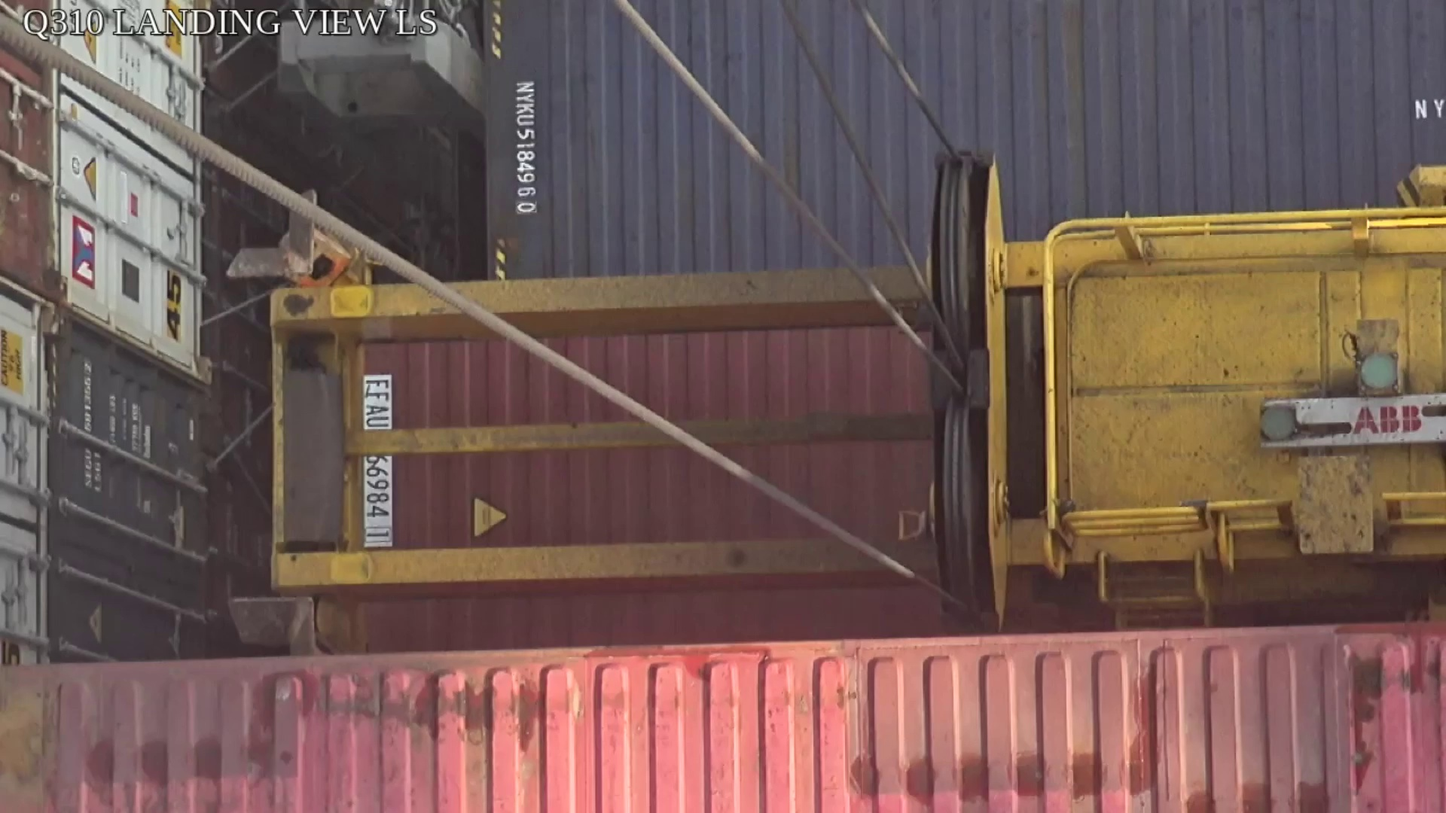aa: (929, 154, 1008, 632)
